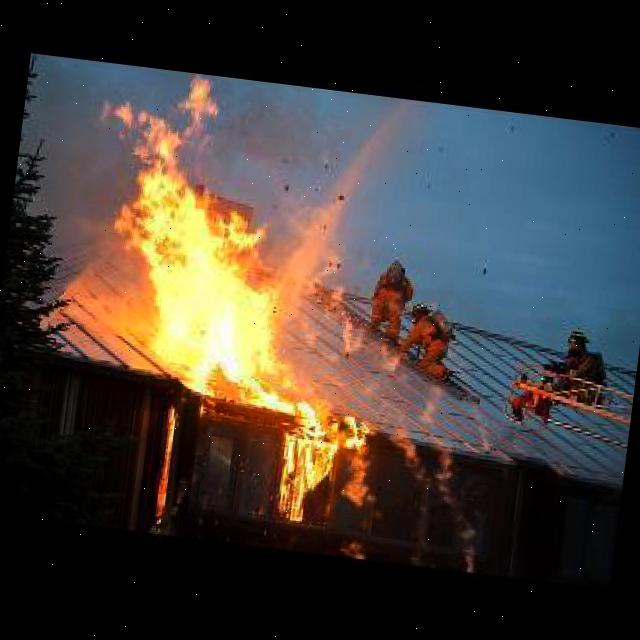fire: (63, 59, 324, 404), (267, 394, 382, 533), (278, 202, 379, 360), (425, 446, 491, 570), (380, 402, 440, 494), (142, 401, 180, 528), (413, 374, 448, 438), (465, 403, 501, 454), (370, 337, 404, 380)
